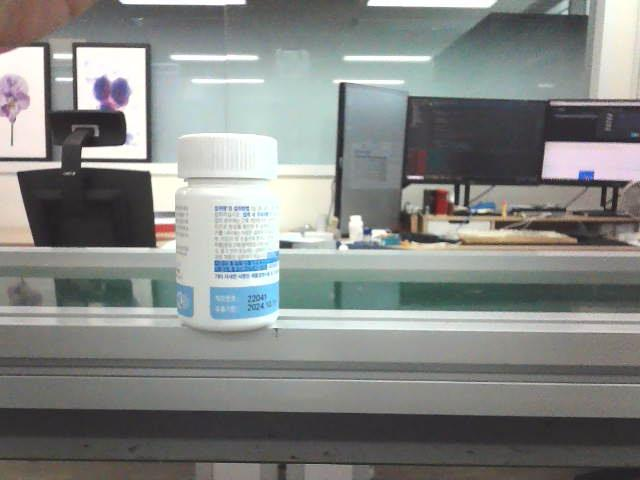labeled: (170, 127, 286, 336)
